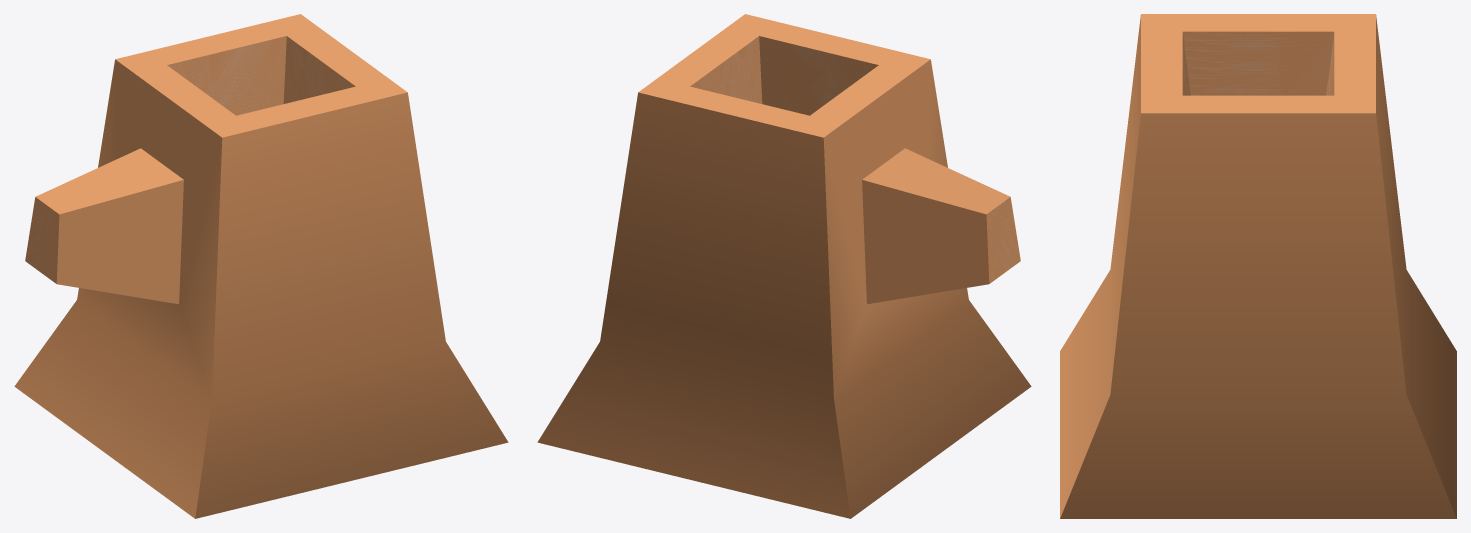
Rendered from treeStump_deep_side.obj.
3 views of the same model, side by side, from view 1: azimuth 30°, elevation 25°; view 2: azimuth 150°, elevation 25°; view 3: azimuth 270°, elevation 25° (orthographic). The views are drawn at different scales.
Visible parts, largest first — view 1: treeStump_deep_side; view 2: treeStump_deep_side; view 3: treeStump_deep_side.
Part boxes in pixels (x1,y1,x2,y2): treeStump_deep_side: (14,14,508,518); treeStump_deep_side: (537,14,1031,518); treeStump_deep_side: (1060,14,1456,518).
Size of the model in its own units: 3.39 by 2.9 by 2.81.
